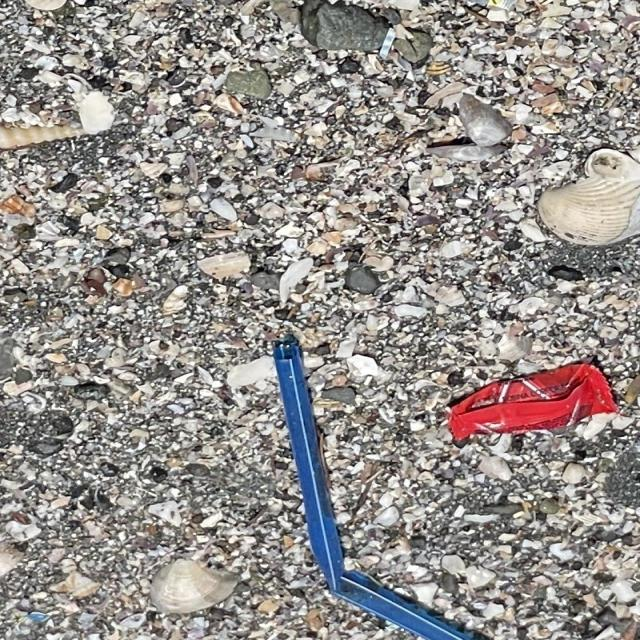plastic_waste: (259, 332, 480, 640), (450, 368, 622, 447)
